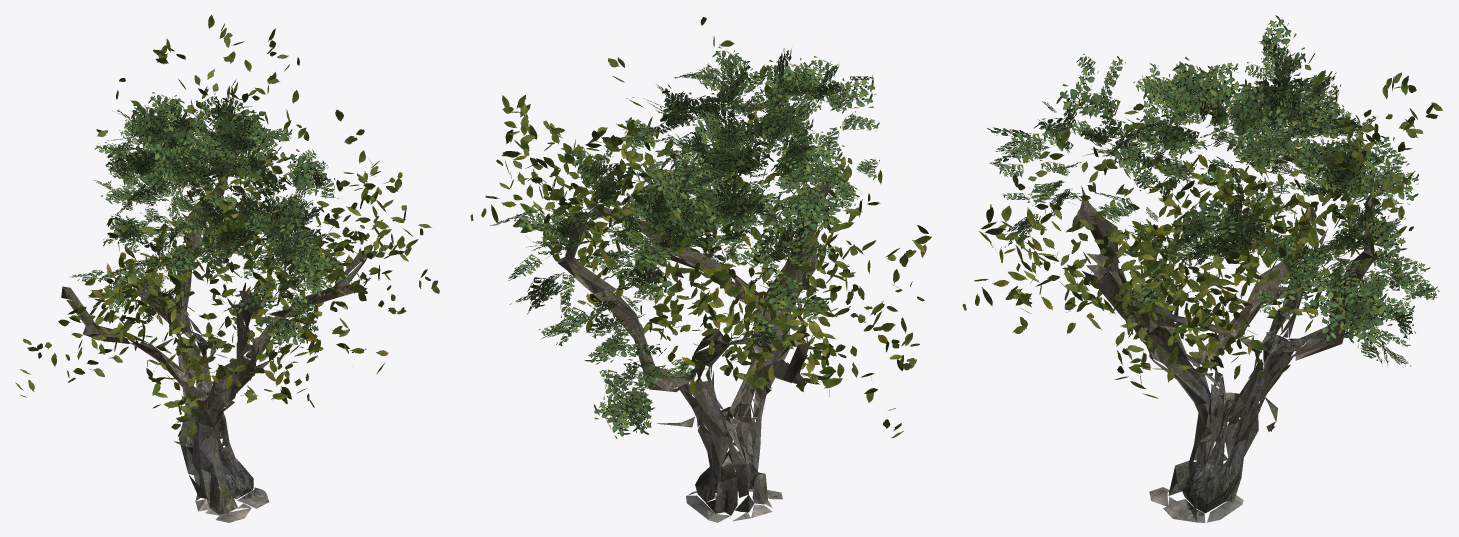
The model's file is bushes.glb.
3 renders of one model, left to right at view 1: azimuth 30°, elevation 25°; view 2: azimuth 150°, elevation 25°; view 3: azimuth 270°, elevation 25°, orthographic. The views are drawn at different scales.
Visible parts, largest first — view 1: v0_mid, v1_mid; view 2: v1_mid, v0_mid; view 3: v1_mid, v0_mid.
Boxes of the visible parts, box(x1,y1,x2,y2) form: v0_mid: box(15, 15, 439, 522); v1_mid: box(69, 90, 352, 348); v1_mid: box(490, 46, 879, 438); v0_mid: box(470, 17, 931, 522); v1_mid: box(987, 15, 1439, 367); v0_mid: box(962, 53, 1442, 522).
Size of the model in its own units: 4.64 by 5 by 4.56.
3 materials, 3 textured.
